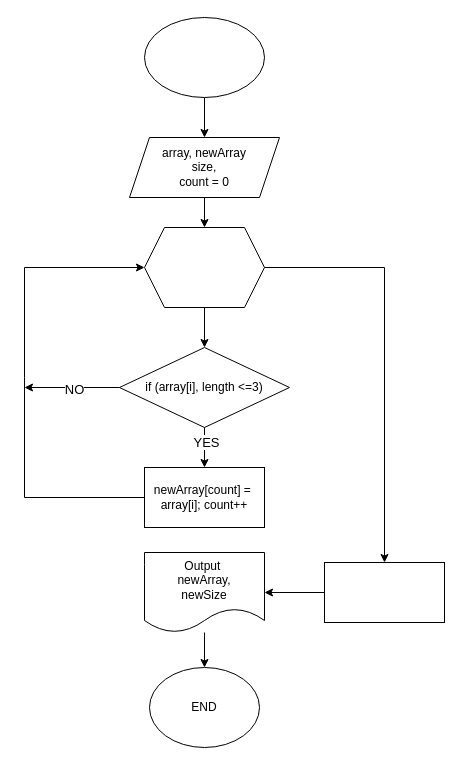
This 462x765 diagram has some shape labels left out. The shapes that lost their labels are listed below. From the top down, each one's centre as x and y in pixels, then its label:
At (x=204, y=57): "START".
At (x=204, y=267): "i = 0, i < size, i++".
At (x=384, y=592): "newSize = count;".
